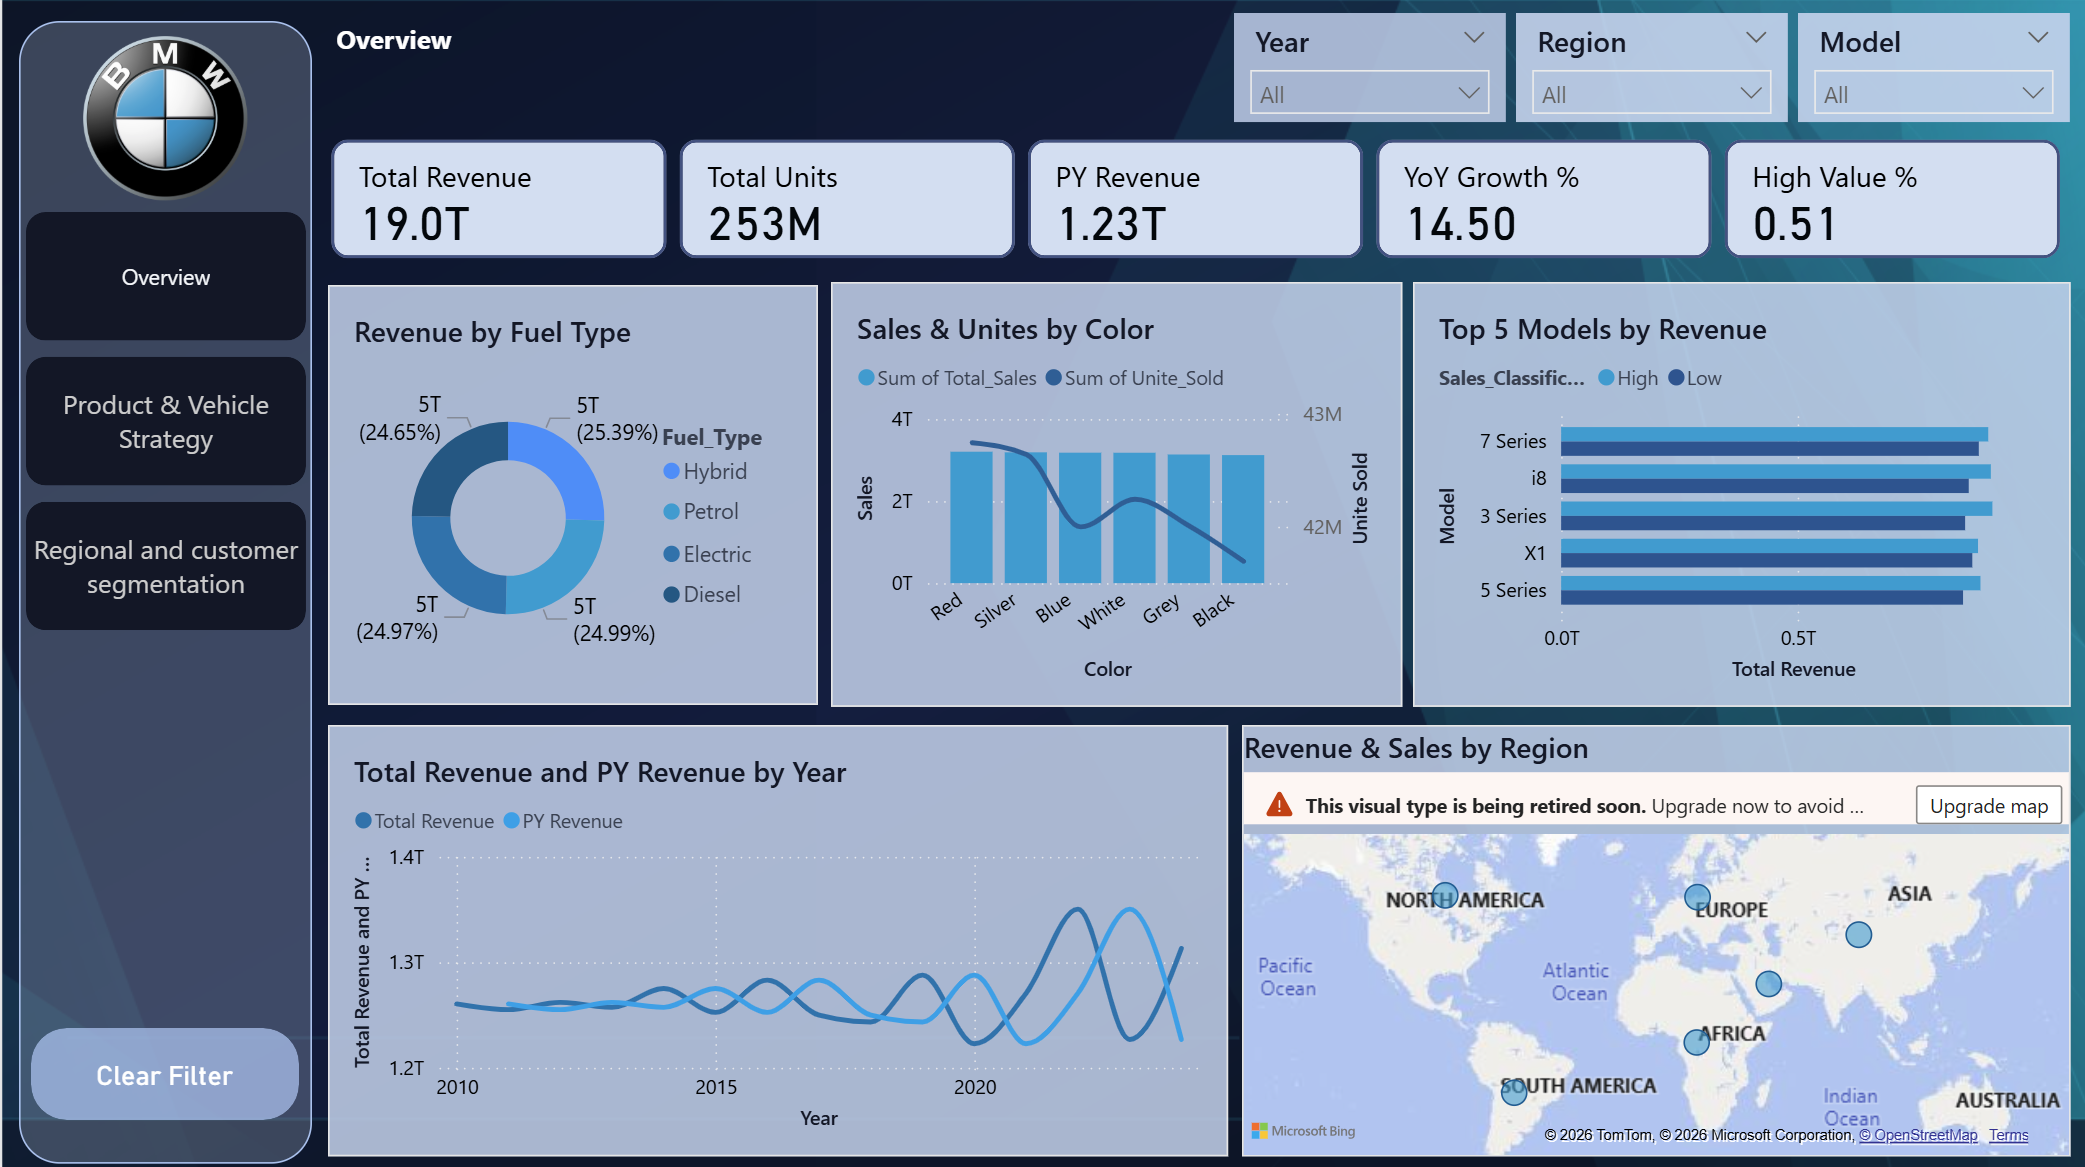

Layout of this report page (visuals, bound fields, positions):
{"tool":"powerbi","page":{"name":"Overview","canvas":[1280,720],"ordinal":0},"visuals":[{"type":"slicer","fields":{"Values":["BMW Sales.Year"]},"box":[757.1,8.9,167.2,67],"z":0,"group":"g2"},{"type":"shape","box":[10.4,14.1,180,701.6],"z":0},{"type":"slicer","fields":{"Values":["BMW Sales.Region"]},"box":[930.1,9,167.2,67],"z":1000,"group":"g2"},{"type":"image","box":[25.9,23.2,148.4,101],"z":1000},{"type":"slicer","fields":{"Values":["BMW Sales.Model"]},"box":[1103.6,8.9,167.2,67],"z":2000,"group":"g2"},{"type":"cardVisual","fields":{"Data":["Key Measures.Total Revenue","Key Measures.Total Units","Key Measures.PY Revenue","Key Measures.YoY Growth %","Key Measures.High Value %"]},"box":[200.2,83.1,1070.8,81.3],"z":2000},{"type":"donutChart","title":"Revenue by Fuel Type","fields":{"Y":["Key Measures.Total Revenue"],"Category":["BMW Sales.Fuel_Type"]},"box":[200.2,176.1,301.2,258.3],"z":3000},{"type":"lineClusteredColumnComboChart","title":"Sales & Unites by Color","fields":{"Category":["BMW Sales.Color"],"Y":["Sum(BMW Sales.Total_Sales)"],"Y2":["Sum(BMW Sales.Unite_Sold)"]},"box":[509.5,174.3,351.3,261],"z":4000},{"type":"clusteredBarChart","title":"Top 5 Models by Revenue","fields":{"Category":["BMW Sales.Model"],"Series":["BMW Sales.Sales_Classification"],"Y":["Key Measures.Total Revenue"]},"box":[867,174.3,404,261],"z":5000},{"type":"lineChart","fields":{"Category":["BMW Sales.Year"],"Y":["Key Measures.Total Revenue","Key Measures.PY Revenue"]},"box":[200.2,446.9,553.3,264.6],"z":6000},{"type":"map","title":"Revenue & Sales by Region","fields":{"Size":["Key Measures.Total Units"],"Category":["BMW Sales.Region"]},"box":[761.6,446.9,509.5,264.6],"z":7000},{"type":"pageNavigator","box":[14.7,131.5,172,259.9],"z":8000},{"type":"actionButton","box":[17.8,632.8,164.6,56.5],"z":9000},{"type":"textbox","box":[200.2,8.9,208.3,37.5],"z":11000},{"type":"group","id":"g1","title":"Group 1","box":[757.1,8.9,514,67],"z":12000},{"type":"group","id":"g2","title":"Group 2","box":[757.1,8.9,513.6,67.1],"z":14006,"group":"g1"}]}

Visuals, with their boxes in screenshot pixels (x1, y1, x2, y2), scaled from the page's 1280x720 canvas onto the 2085x1167 screenshot:
slicer - BMW Sales.Year: box=[1233, 14, 1506, 123]
shape: box=[17, 23, 310, 1160]
slicer - BMW Sales.Region: box=[1515, 15, 1787, 123]
image: box=[42, 38, 284, 201]
slicer - BMW Sales.Model: box=[1798, 14, 2070, 123]
cardVisual - Key Measures.Total Revenue x Key Measures.Total Units: box=[326, 135, 2070, 266]
"Revenue by Fuel Type" donutChart: box=[326, 285, 817, 704]
"Sales & Unites by Color" lineClusteredColumnComboChart: box=[830, 283, 1402, 706]
"Top 5 Models by Revenue" clusteredBarChart: box=[1412, 283, 2070, 706]
lineChart - BMW Sales.Year x Key Measures.Total Revenue: box=[326, 724, 1227, 1153]
"Revenue & Sales by Region" map: box=[1241, 724, 2071, 1153]
pageNavigator: box=[24, 213, 304, 634]
actionButton: box=[29, 1026, 297, 1117]
textbox: box=[326, 14, 665, 75]
"Group 1" group: box=[1233, 14, 2071, 123]
"Group 2" group: box=[1233, 14, 2070, 123]
